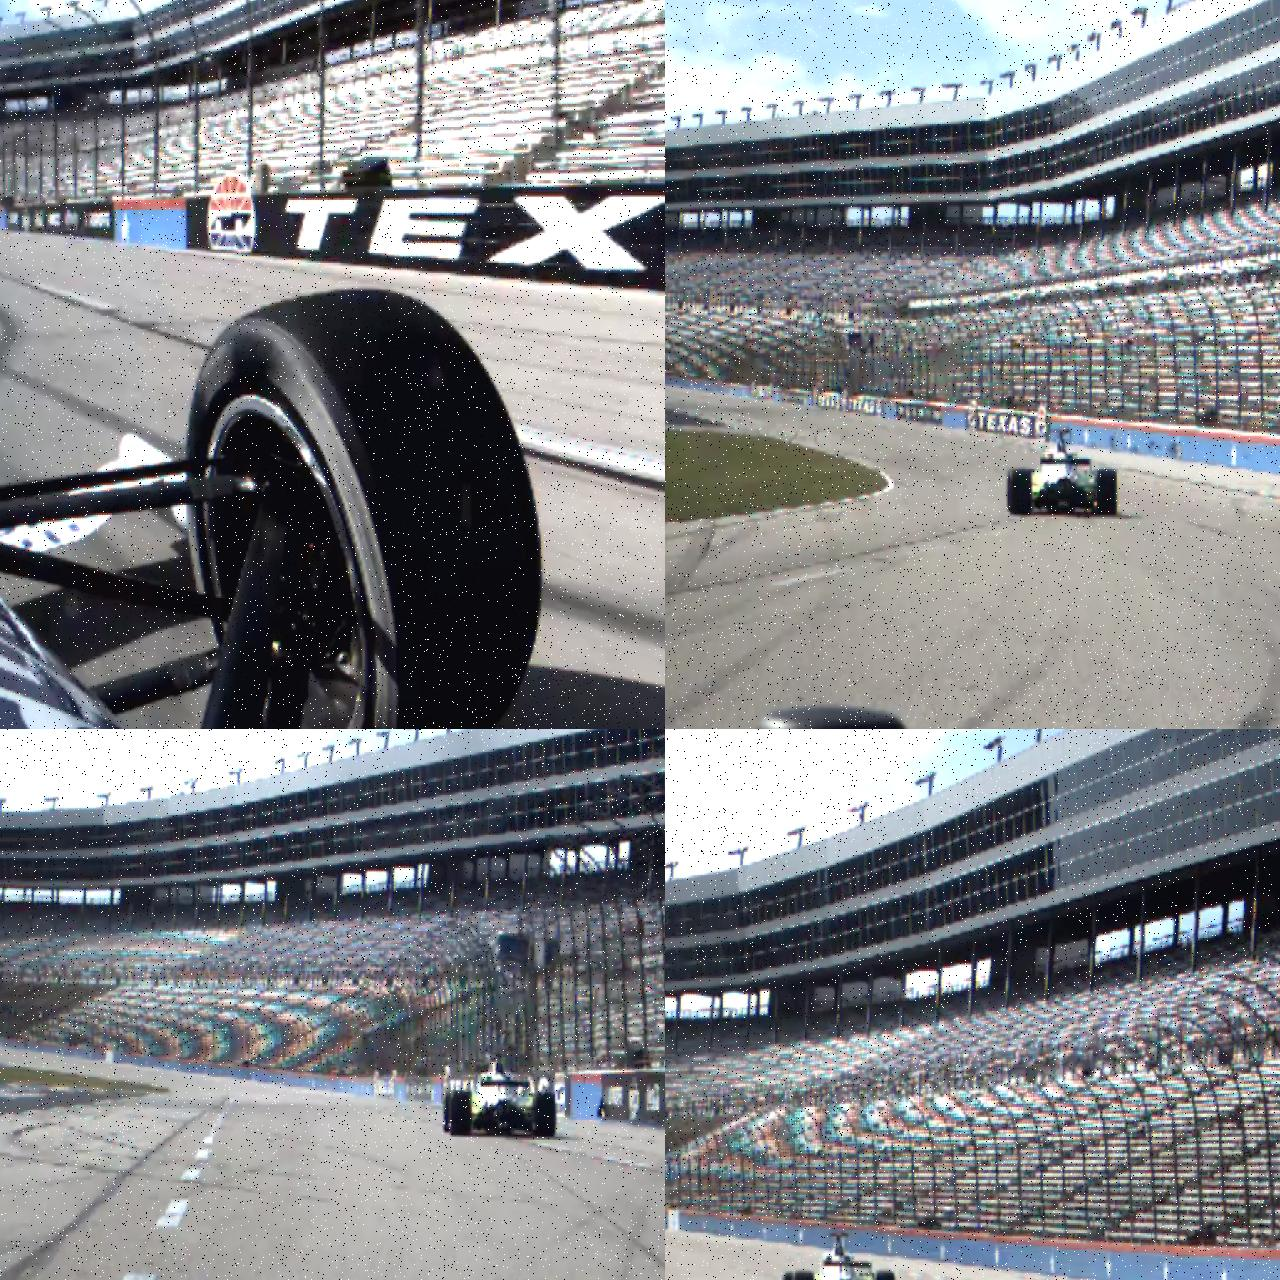AV: (1008, 429, 1117, 517), (443, 1055, 557, 1137), (782, 1232, 897, 1280)
Wheel: (184, 286, 545, 729), (1012, 468, 1033, 516), (1096, 470, 1117, 516), (535, 1091, 556, 1136), (451, 1090, 471, 1136), (444, 1090, 456, 1132), (874, 1269, 897, 1280), (794, 1269, 813, 1280), (782, 1271, 796, 1280)
